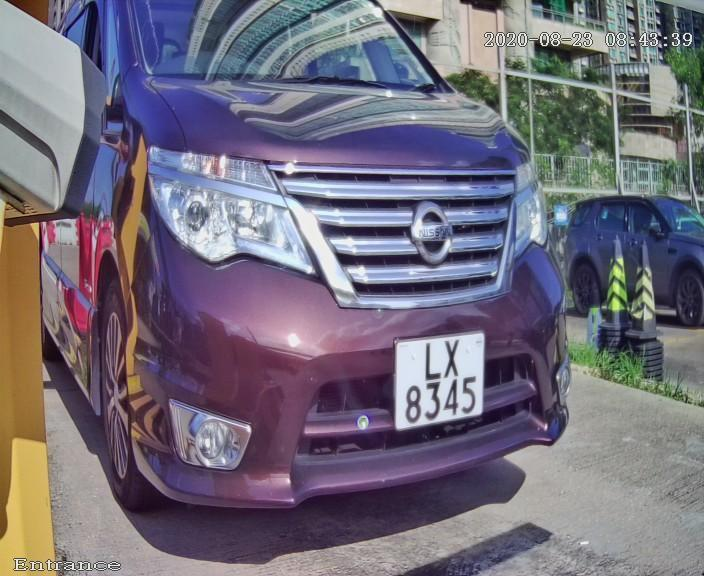Car: (32, 1, 610, 574)
License Plate: (387, 319, 491, 440)
